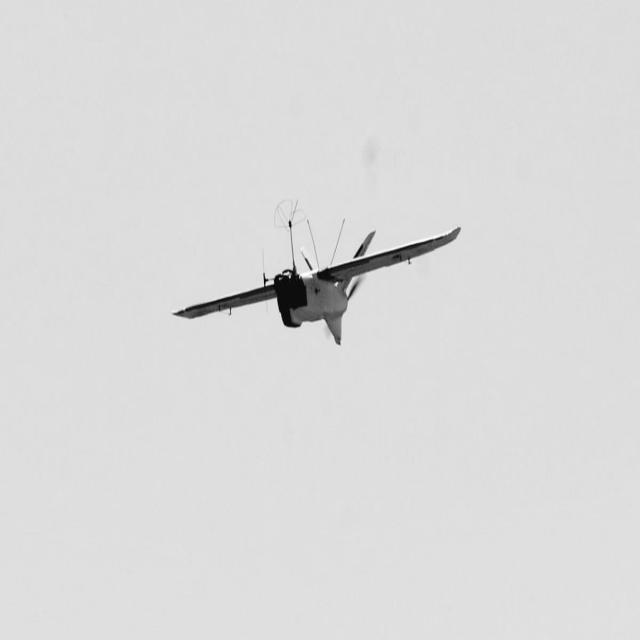iha: (173, 194, 454, 345), (172, 227, 454, 345)
